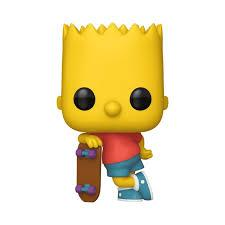Bart: (47, 11, 174, 218)
